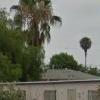Palm tree: (14, 0, 63, 80)
